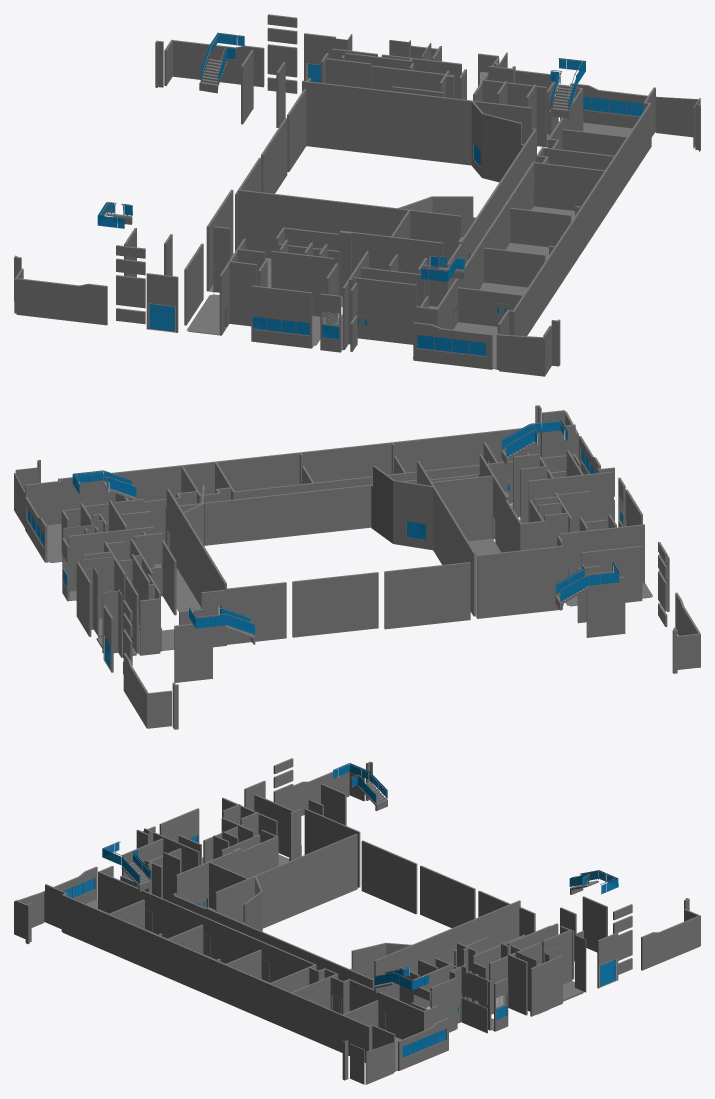
The picture shows the model from 3 angles, top to bottom: view 1: azimuth 30°, elevation 25°; view 2: azimuth 150°, elevation 25°; view 3: azimuth 270°, elevation 25°; orthographic projection. The views are drawn at different scales.
Visible parts, largest first — view 1: Wall, Floor, 常规模型 42 (×4), C6514 (×2), 常规模型 34 (×2), C5513, C2538; view 2: Wall, 常规模型 42 (×4), Floor; view 3: Wall, 常规模型 42 (×4), Floor, C6514.
Part boxes in pixels (bbox=[...]): Wall: bbox=[14, 14, 700, 376]; Floor: bbox=[186, 122, 632, 369]; 常规模型 42 (×4): bbox=[97, 32, 585, 281]; C6514 (×2): bbox=[416, 96, 643, 356]; 常规模型 34 (×2): bbox=[199, 59, 577, 118]; C5513: bbox=[252, 316, 310, 335]; C2538: bbox=[148, 303, 175, 332]; Wall: bbox=[14, 405, 700, 729]; 常规模型 42 (×4): bbox=[72, 420, 619, 635]; Floor: bbox=[47, 503, 652, 656]; Wall: bbox=[14, 758, 700, 1084]; 常规模型 42 (×4): bbox=[102, 763, 618, 990]; Floor: bbox=[86, 854, 583, 1071]; C6514: bbox=[402, 1028, 446, 1058].
Size of the model in its own units: 71650 by 7841 by 71783.
